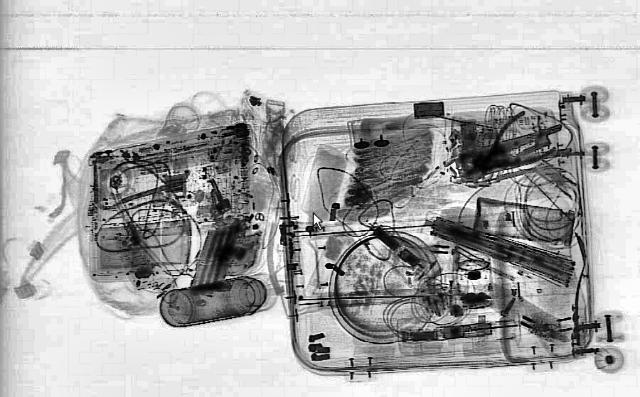Pliers: (440, 108, 578, 188), (446, 121, 586, 180)
